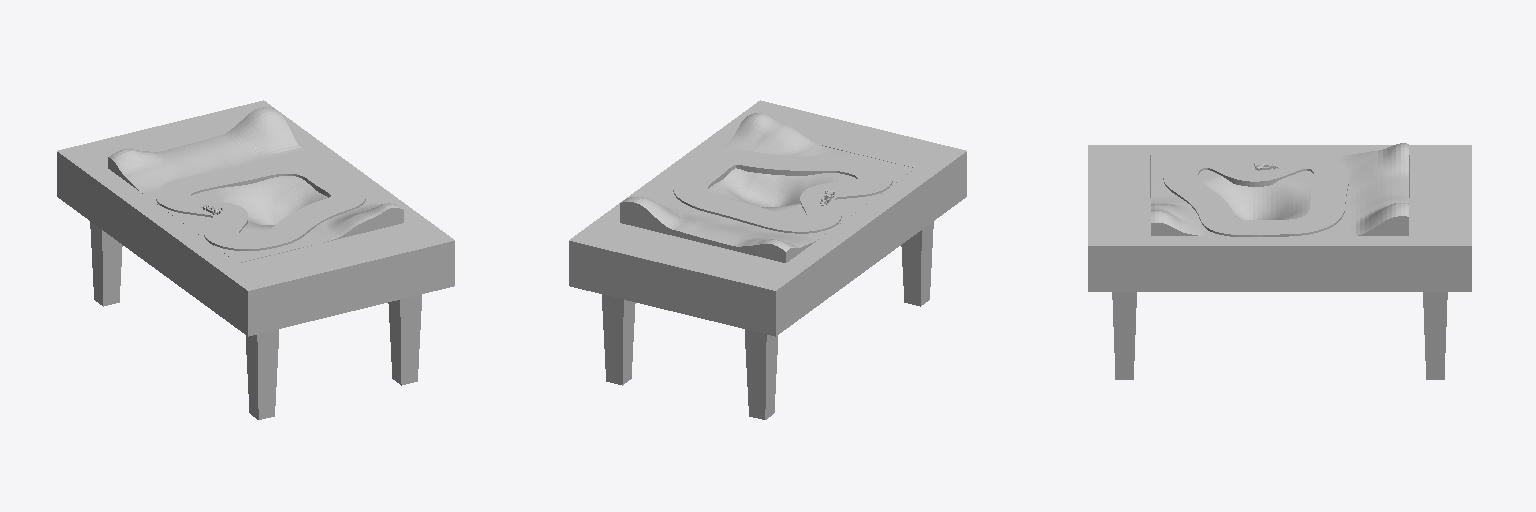
The model's file is NewestTisch78.obj.
3 views of the same model, side by side, from view 1: azimuth 30°, elevation 25°; view 2: azimuth 150°, elevation 25°; view 3: azimuth 270°, elevation 25° (orthographic).
Parts seen in each view (by area): view 1: Tischplatte_wood_table_001, Landschaft_aerial_grass_rock, off, Bein1_wood_table_001, Bein4_wood_table_001.003, Bein3_wood_table_001.002; view 2: Tischplatte_wood_table_001, Landschaft_aerial_grass_rock, off, Bein2_wood_table_001.001, Bein3_wood_table_001.002, Bein4_wood_table_001.003; view 3: Tischplatte_wood_table_001, Landschaft_aerial_grass_rock, off, Bein1_wood_table_001, Bein2_wood_table_001.001.
Part boxes in pixels (left/top/right/bottom): Tischplatte_wood_table_001: left=57, top=100, right=454, bottom=336; Landschaft_aerial_grass_rock: left=108, top=107, right=403, bottom=262; off: left=156, top=159, right=365, bottom=250; Bein1_wood_table_001: left=388, top=294, right=421, bottom=385; Bein4_wood_table_001.003: left=246, top=329, right=278, bottom=419; Bein3_wood_table_001.002: left=90, top=221, right=122, bottom=306; Tischplatte_wood_table_001: left=569, top=100, right=966, bottom=336; Landschaft_aerial_grass_rock: left=620, top=113, right=915, bottom=262; off: left=673, top=150, right=892, bottom=233; Bein2_wood_table_001.001: left=602, top=294, right=635, bottom=385; Bein3_wood_table_001.002: left=745, top=329, right=777, bottom=419; Bein4_wood_table_001.003: left=901, top=221, right=933, bottom=306; Tischplatte_wood_table_001: left=1088, top=145, right=1471, bottom=291; Landschaft_aerial_grass_rock: left=1151, top=143, right=1408, bottom=235; off: left=1163, top=153, right=1348, bottom=236; Bein1_wood_table_001: left=1112, top=292, right=1136, bottom=379; Bein2_wood_table_001.001: left=1423, top=292, right=1447, bottom=379.
Size of the model in its own units: 5 by 3.91 by 8.